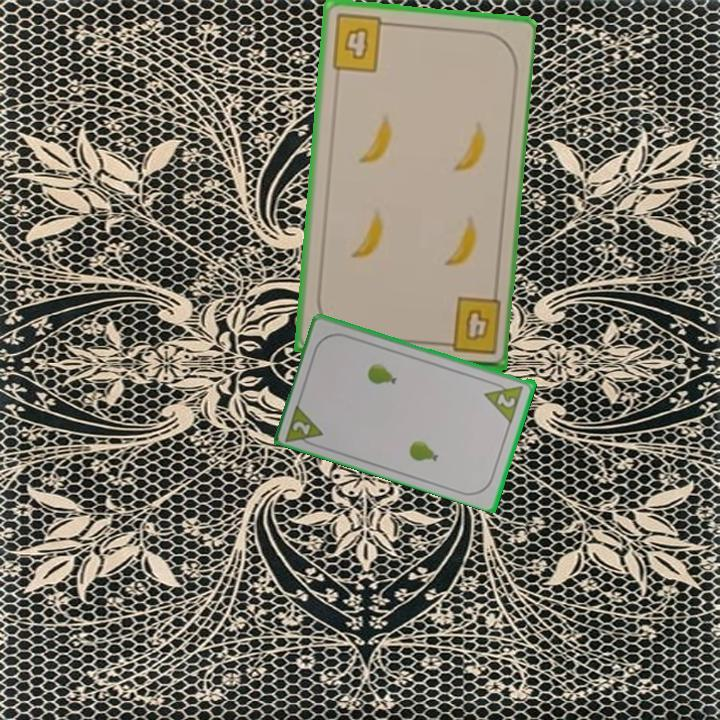2p: (282, 399, 327, 450), (481, 377, 526, 424)
4b: (435, 294, 504, 358), (327, 11, 395, 75)
